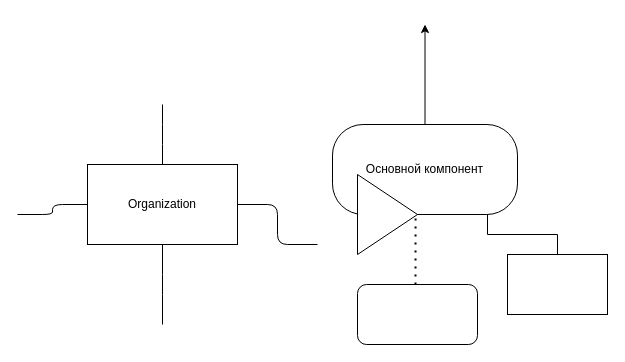
Some shapes in this 625 by 362 pixel diagram are drawn without their labels. Here are the shapes that lost their labels. From the top down, the centre of each, then its label:
(557,284): Division
(417,314): Компонент
